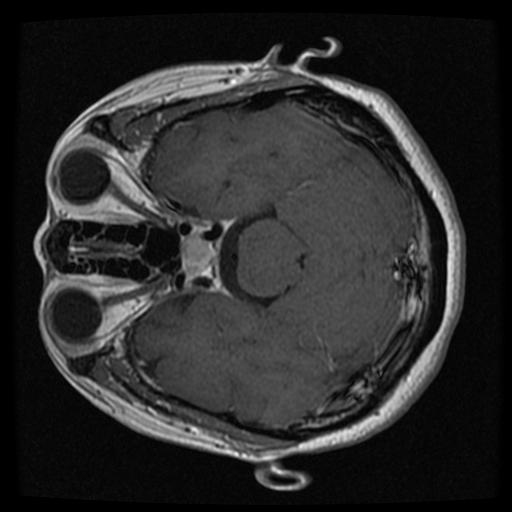pituitary tumour: (179, 231, 212, 279)
